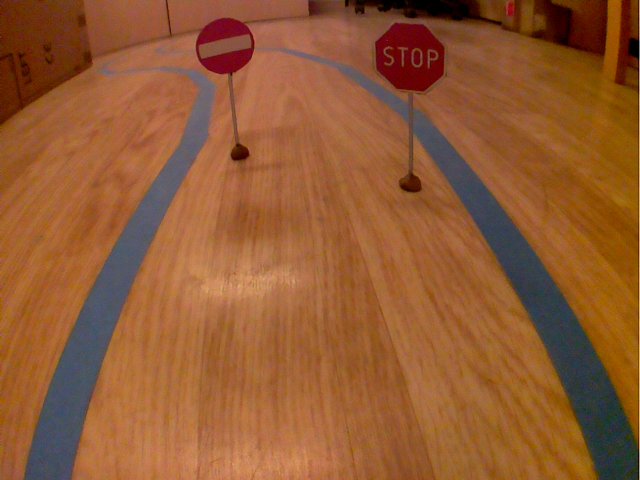Stop: (369, 15, 452, 100)
Zakaz: (193, 14, 259, 78)
